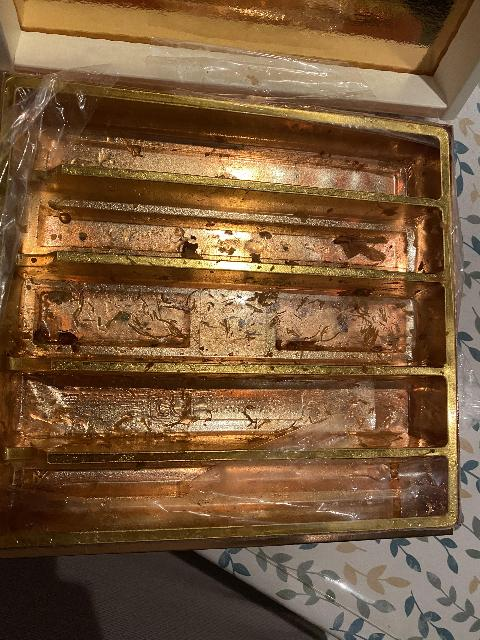Plastik: (0, 71, 474, 557)
